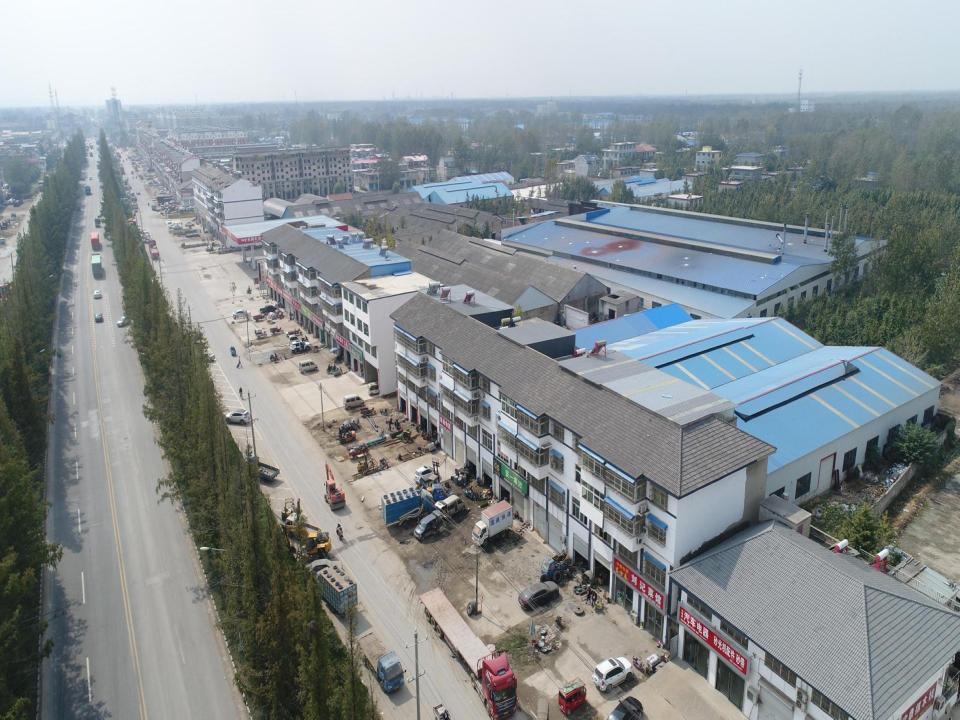car: (591, 657, 633, 694), (298, 555, 344, 582), (517, 580, 559, 608), (604, 694, 644, 719), (224, 408, 252, 430), (412, 464, 440, 484), (289, 339, 311, 353), (115, 312, 132, 329), (198, 349, 215, 363), (232, 308, 252, 318), (92, 287, 102, 299), (94, 311, 103, 323), (5, 197, 17, 205), (142, 237, 154, 245), (140, 227, 149, 235), (171, 224, 183, 230), (184, 220, 195, 226), (141, 233, 151, 239), (168, 223, 176, 229), (167, 217, 172, 224), (159, 190, 166, 194), (81, 175, 86, 180), (88, 175, 92, 180), (136, 190, 141, 194)
truck: (418, 579, 520, 719), (356, 631, 406, 693), (282, 509, 324, 548), (244, 451, 280, 483), (412, 478, 446, 502), (89, 252, 104, 277), (6, 189, 34, 202), (146, 239, 159, 259), (89, 230, 101, 250), (259, 304, 278, 314), (12, 194, 24, 207), (38, 180, 46, 195), (217, 246, 231, 254), (94, 214, 101, 227), (84, 184, 91, 195), (151, 204, 157, 211), (89, 151, 93, 158), (89, 144, 93, 148)
van: (411, 509, 443, 541), (436, 494, 466, 516), (342, 393, 364, 410), (299, 358, 318, 372), (0, 236, 6, 244), (158, 187, 164, 190)
